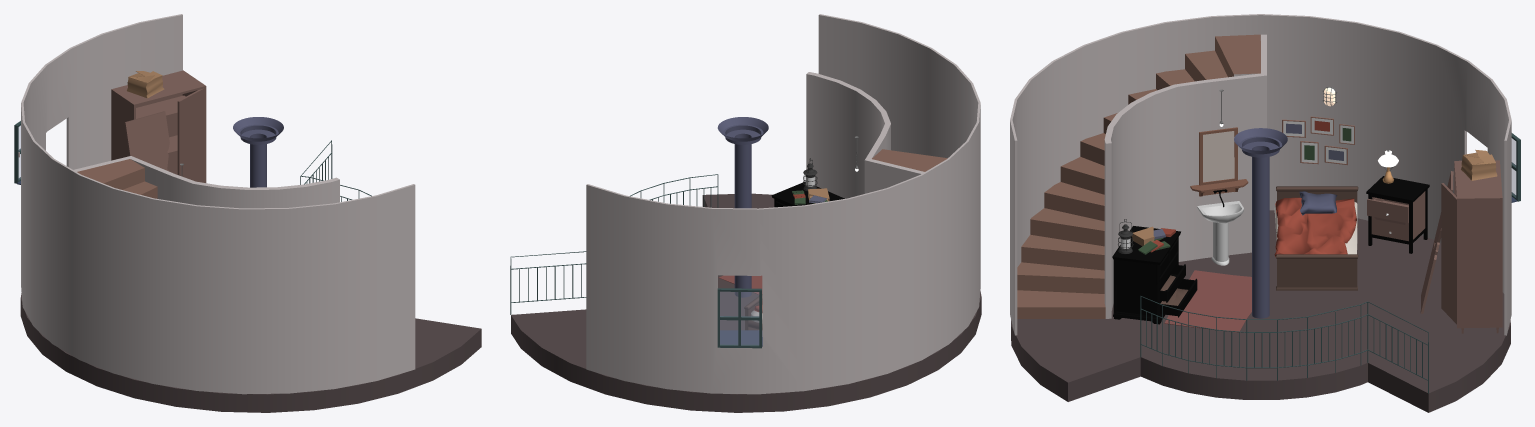
File: Bedroom.fbx
3 renders of one model, left to right at view 1: azimuth 30°, elevation 25°; view 2: azimuth 150°, elevation 25°; view 3: azimuth 270°, elevation 25°, orthographic. The views are drawn at different scales.
Parts seen in each view (by area): view 1: wallBedroom, floorBedroom, closetBroken, stairsWallBedroom, pole.001, stairsBedroom, crushedBox.001; view 2: wallBedroom, floorBedroom, stairsWallBedroom, window.004, pole.001, Floor.016, stairsBedroom, dresser, windowPlate.002, folderGroup.001, bed; view 3: wallBedroom, floorBedroom, stairsWallBedroom, stairsBedroom, closetBroken, bed, dresser, pole.001, Floor.016, nightstand.001, carpetBedroom, mirror (+6 smaller).
Part boxes in pixels (x1,y1,x2,y2): wallBedroom: (21,14,415,394); floorBedroom: (20,293,481,412); closetBroken: (111,70,206,182); stairsWallBedroom: (74,156,339,208); pole.001: (233,117,283,187); stairsBedroom: (77,159,157,198); crushedBox.001: (127,71,164,98); wallBedroom: (586,14,980,394); floorBedroom: (511,193,981,412); stairsWallBedroom: (806,72,924,198); window.004: (717,288,761,348); pole.001: (717,117,768,297); Floor.016: (510,174,718,314); stairsBedroom: (872,149,947,171); dresser: (771,181,844,207); windowPlate.002: (720,330,762,346); folderGroup.001: (792,188,829,204); bed: (744,294,762,330); wallBedroom: (1010,14,1511,335); floorBedroom: (1011,210,1510,412); stairsWallBedroom: (1104,34,1266,318); stairsBedroom: (1017,34,1260,318); closetBroken: (1420,160,1502,333); bed: (1274,186,1358,290); dresser: (1112,226,1197,324); pole.001: (1234,128,1287,318); Floor.016: (1140,296,1428,393); nightstand.001: (1366,176,1429,253); carpetBedroom: (1164,270,1251,332); mirror: (1190,127,1248,196).
Size of the model in its own units: 610 by 330 by 713.
